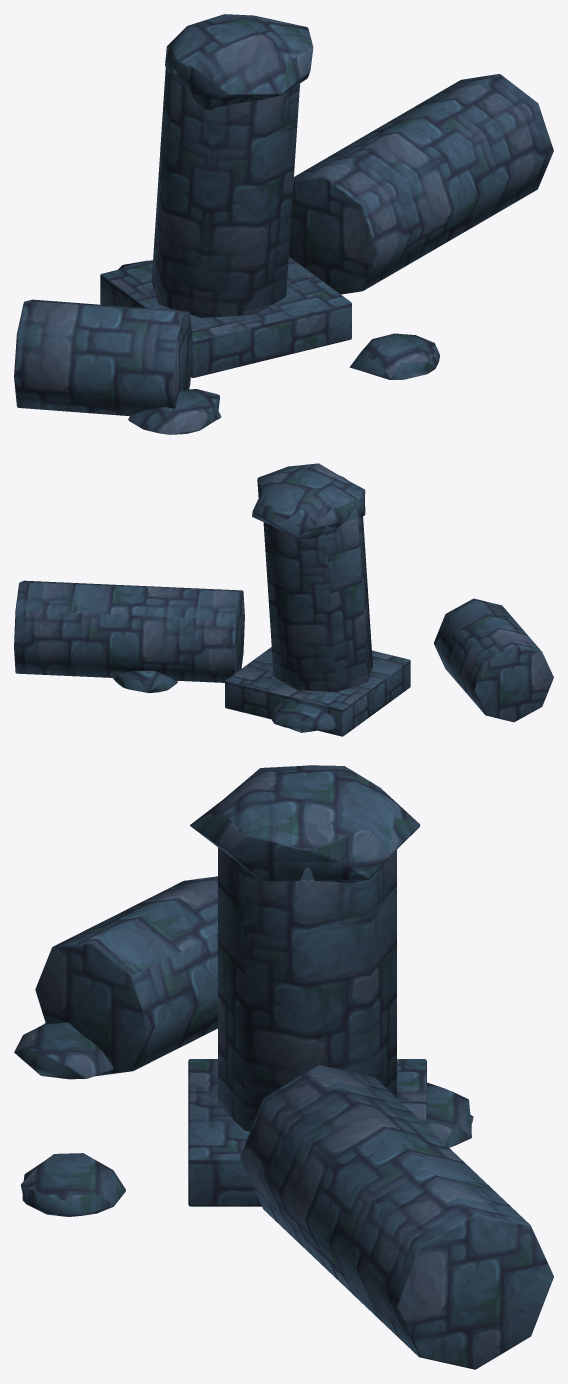
File: broken_pillar.gltf
3 views of the same model, one above another, from view 1: azimuth 30°, elevation 25°; view 2: azimuth 150°, elevation 25°; view 3: azimuth 270°, elevation 25° (orthographic). The views are drawn at different scales.
Parts seen in each view (by area): view 1: broken_pillar; view 2: broken_pillar; view 3: broken_pillar.
Part boxes in pixels (x1,y1,x2,y2): broken_pillar: (14, 14, 553, 434); broken_pillar: (14, 463, 553, 736); broken_pillar: (14, 765, 553, 1369).
Bounding box in the file's own units: 6.27 × 2.83 × 3.62.
Materials: 1 (1 with a texture image).
